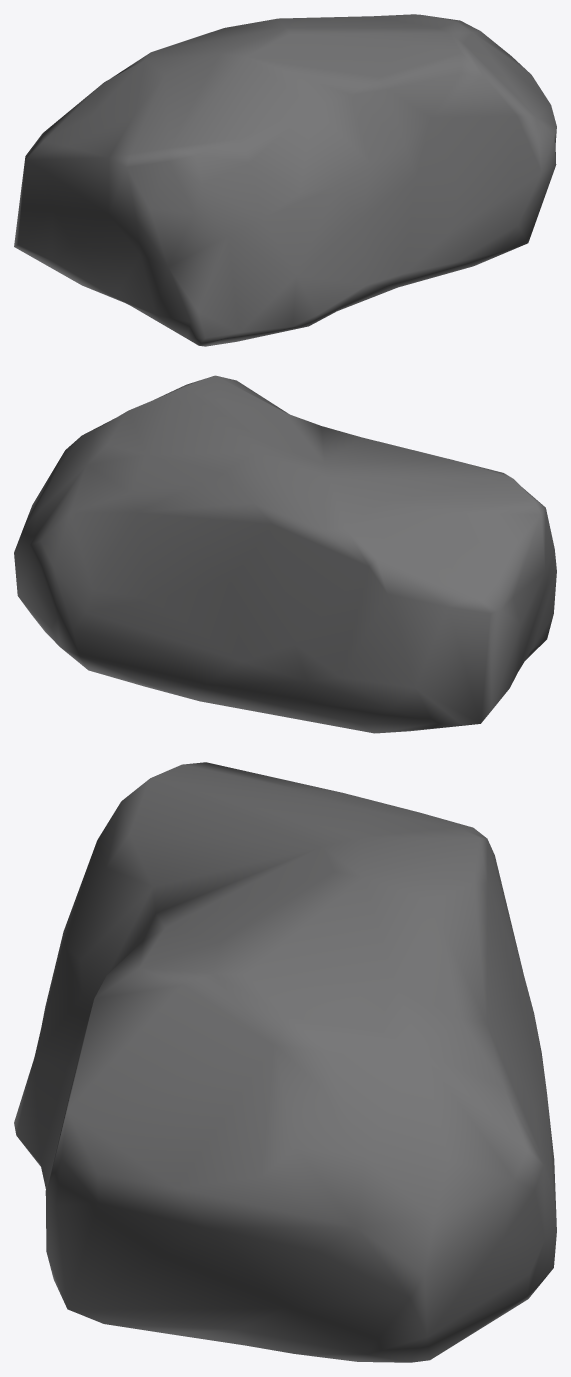
The model's file is Rock A by AssetQuest - Qms66Ra06p.glb.
3 renders of one model, top to bottom at view 1: azimuth 30°, elevation 25°; view 2: azimuth 150°, elevation 25°; view 3: azimuth 270°, elevation 25°, orthographic. The views are drawn at different scales.
Visible parts, largest first — view 1: Rock_4a; view 2: Rock_4a; view 3: Rock_4a.
Part boxes in pixels (x1=…): Rock_4a: x1=14, y1=14, x2=556, y2=346; Rock_4a: x1=14, y1=375, x2=556, y2=733; Rock_4a: x1=14, y1=762, x2=556, y2=1362.
Bounding box in the file's own units: 0.4993 × 0.2338 × 0.3055.
1 material, 1 textured.
